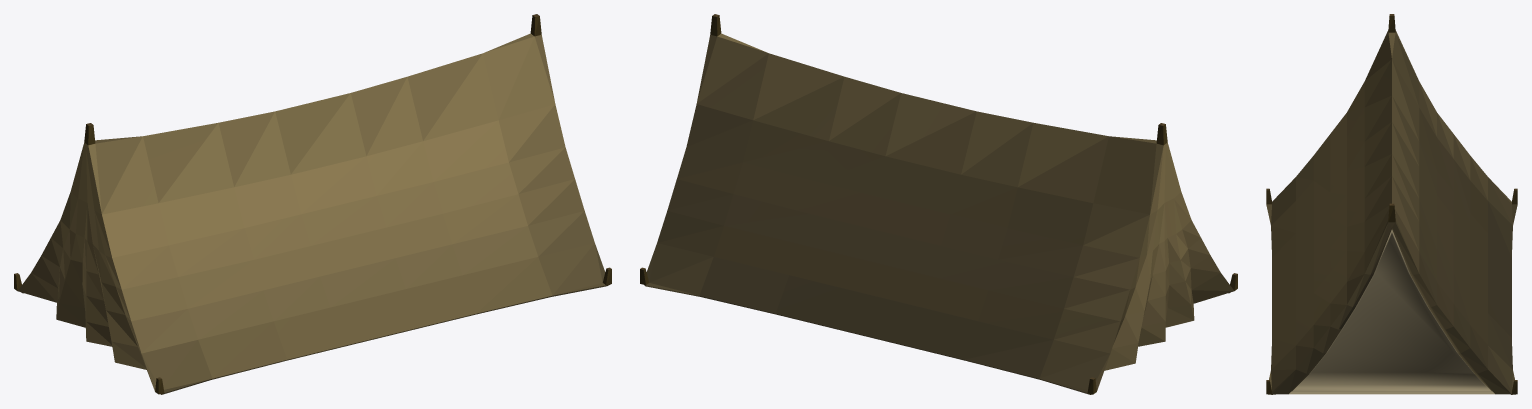
File: tent3.obj
3 renders of one model, left to right at view 1: azimuth 30°, elevation 25°; view 2: azimuth 150°, elevation 25°; view 3: azimuth 270°, elevation 25°, orthographic. The views are drawn at different scales.
Parts seen in each view (by area): view 1: Object_Tent_2022-04-28_18-00-11.obj.001; view 2: Object_Tent_2022-04-28_18-00-11.obj.001; view 3: Object_Tent_2022-04-28_18-00-11.obj.001.
Part boxes in pixels (bbox=[...]): Object_Tent_2022-04-28_18-00-11.obj.001: bbox=[14, 14, 611, 394]; Object_Tent_2022-04-28_18-00-11.obj.001: bbox=[640, 14, 1237, 394]; Object_Tent_2022-04-28_18-00-11.obj.001: bbox=[1266, 14, 1517, 394].
Size of the model in its own units: 384 by 178 by 212.
